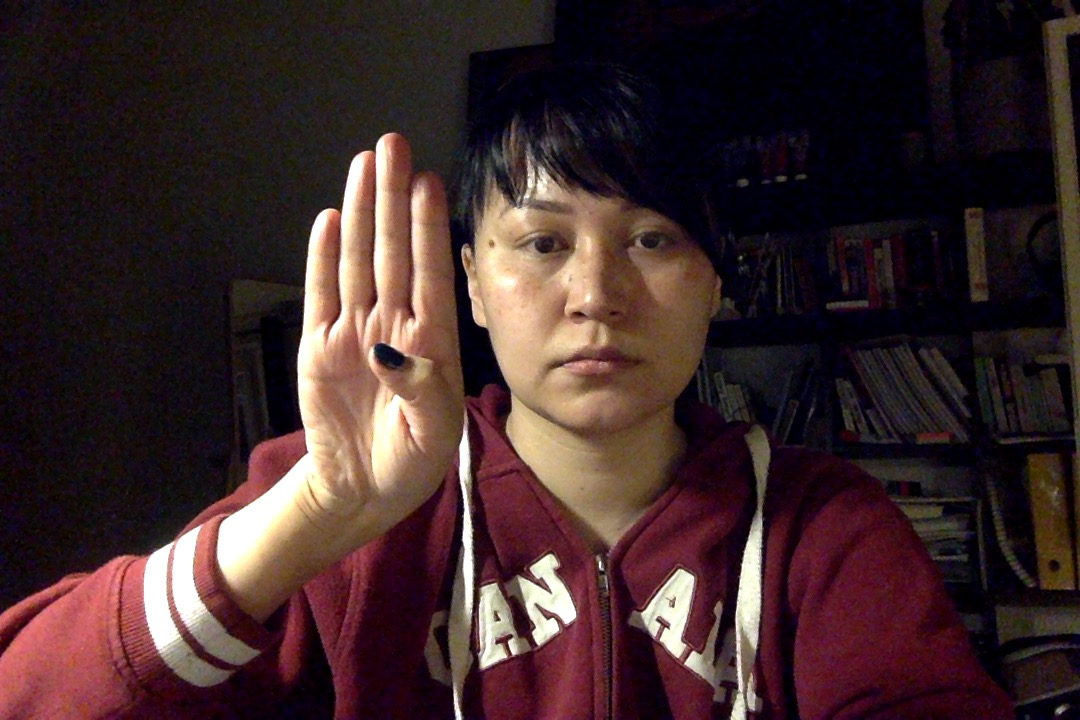b: (276, 114, 502, 556)
